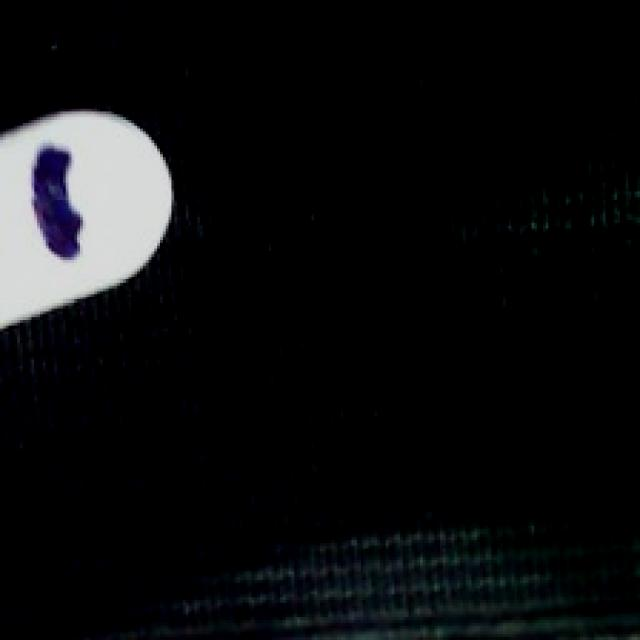defected: (0, 106, 183, 334)
